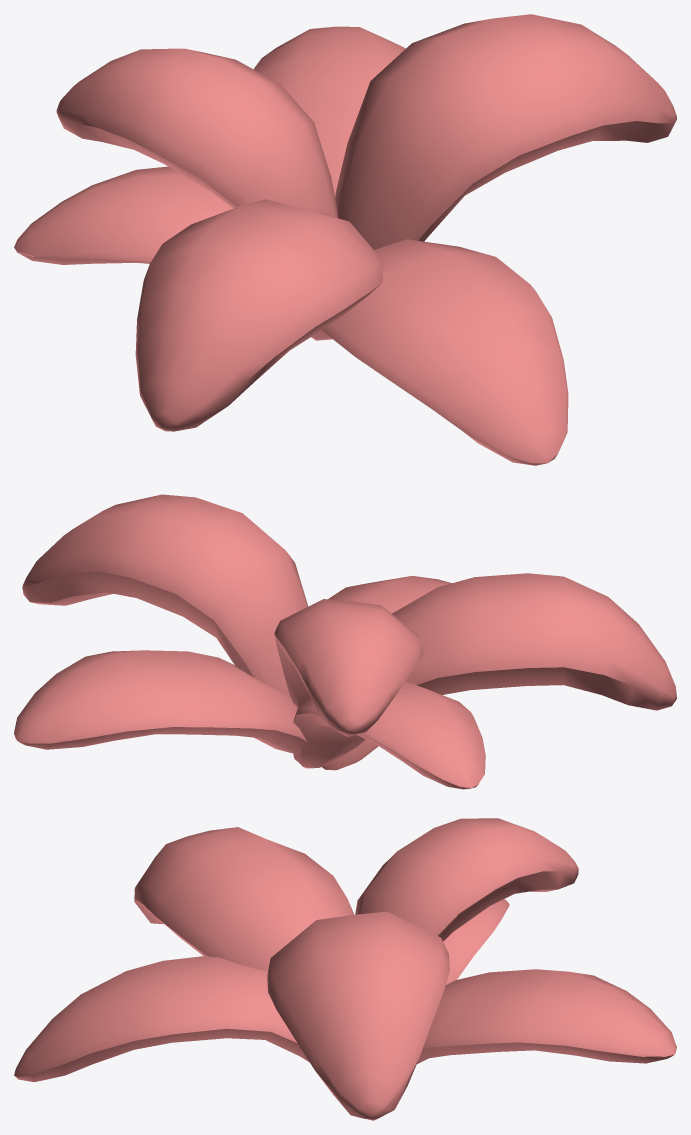
The model's file is Plant1_Red.fbx.
3 renders of one model, top to bottom at view 1: azimuth 30°, elevation 25°; view 2: azimuth 150°, elevation 25°; view 3: azimuth 270°, elevation 25°, orthographic. The views are drawn at different scales.
Parts seen in each view (by area): view 1: plantA_forest.001; view 2: plantA_forest.001; view 3: plantA_forest.001.
Part boxes in pixels (x1=…): plantA_forest.001: x1=14, y1=14, x2=676, y2=465; plantA_forest.001: x1=14, y1=494, x2=676, y2=789; plantA_forest.001: x1=14, y1=818, x2=676, y2=1120.
Size of the model in its own units: 4.3 by 1.68 by 4.45.
